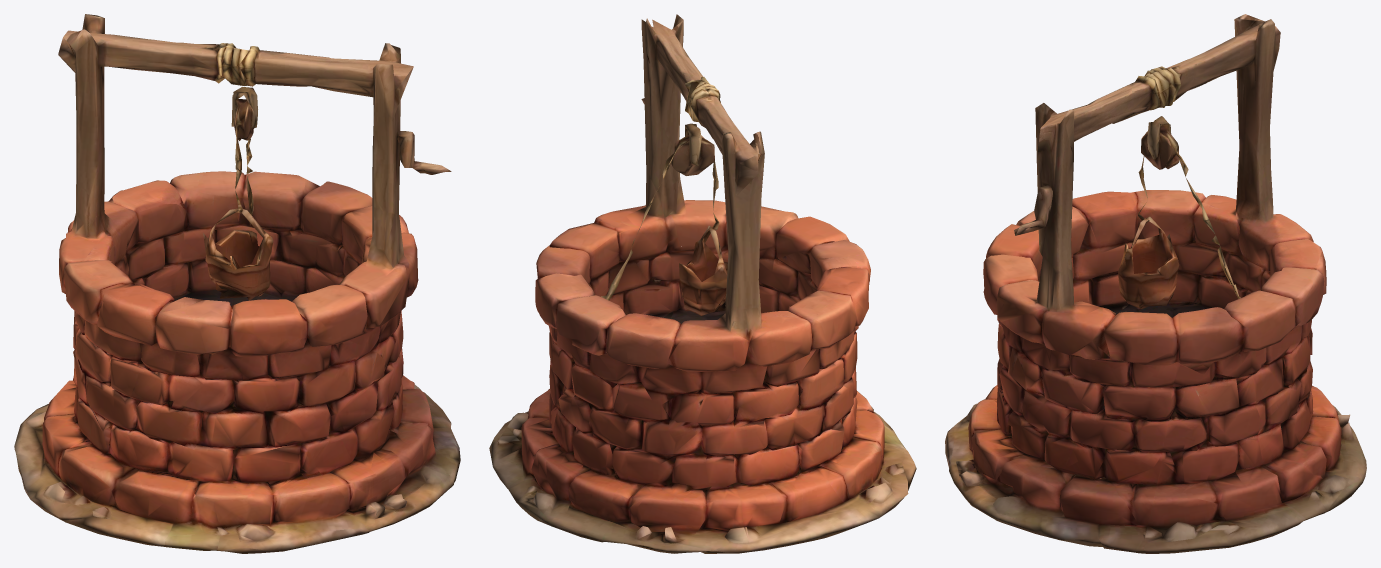
The model's file is gieng-lang.b76ca031.glb.
3 renders of one model, left to right at view 1: azimuth 30°, elevation 25°; view 2: azimuth 150°, elevation 25°; view 3: azimuth 270°, elevation 25°, orthographic. The views are drawn at different scales.
Visible parts, largest first — view 1: tripo_node_fb805553-52f2-4185-b9ef-6fc1e2ca0178; view 2: tripo_node_fb805553-52f2-4185-b9ef-6fc1e2ca0178; view 3: tripo_node_fb805553-52f2-4185-b9ef-6fc1e2ca0178.
Part boxes in pixels (x1,y1,x2,y2): tripo_node_fb805553-52f2-4185-b9ef-6fc1e2ca0178: (14, 14, 460, 553); tripo_node_fb805553-52f2-4185-b9ef-6fc1e2ca0178: (489, 14, 916, 553); tripo_node_fb805553-52f2-4185-b9ef-6fc1e2ca0178: (945, 14, 1366, 553).
Size of the model in its own units: 0.9641 by 0.9784 by 0.9286.
1 material, 1 textured.
